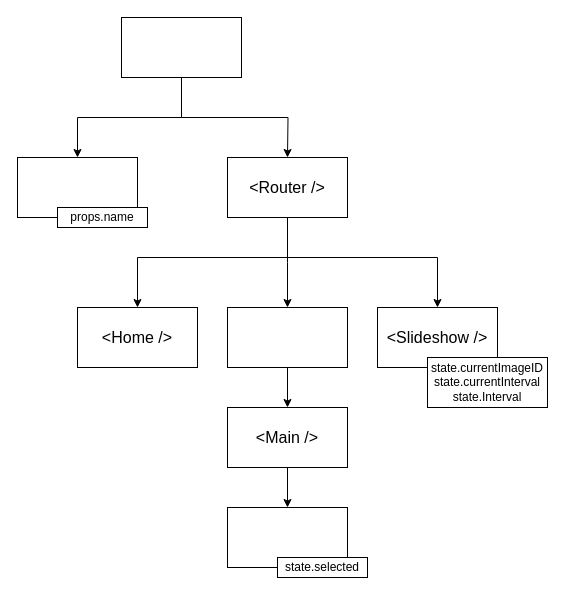
The diagram is 565 pixels wide and 595 high, and some of its shapes have lost their labels. Here are the shapes that lost their labels. From the top down, the box of each, then its label:
(120, 16, 242, 78): <App />
(16, 156, 138, 218): <Header />
(226, 306, 348, 368): <Images />
(226, 506, 348, 568): <FileCard />
